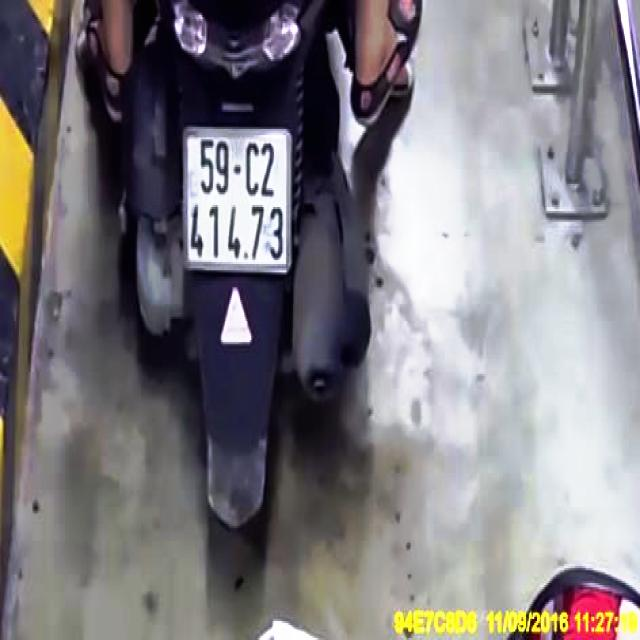license_plate: (187, 134, 292, 271)
